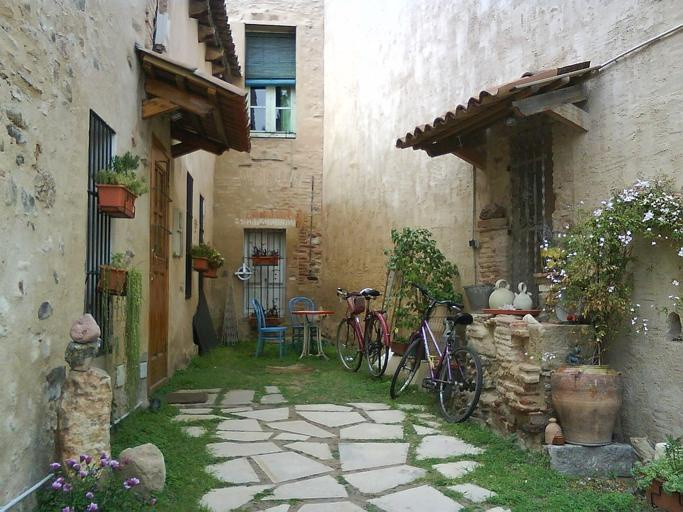non-vehicle: (389, 278, 484, 425), (334, 286, 389, 376)
